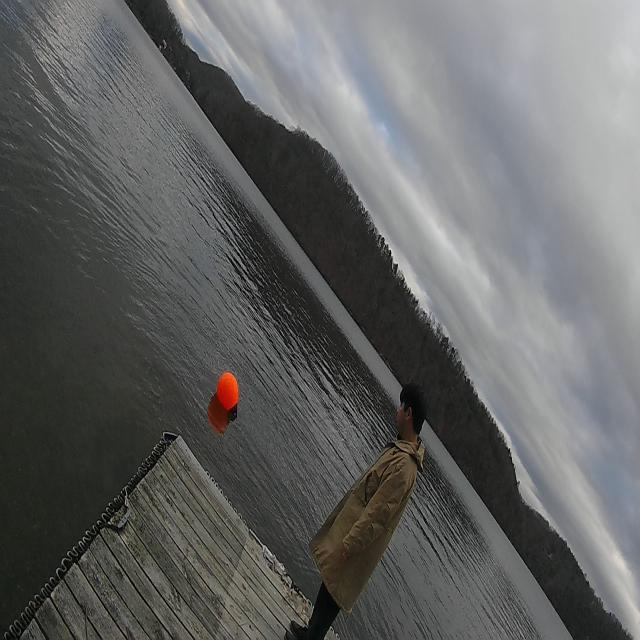Buoy: (215, 373, 243, 421)
